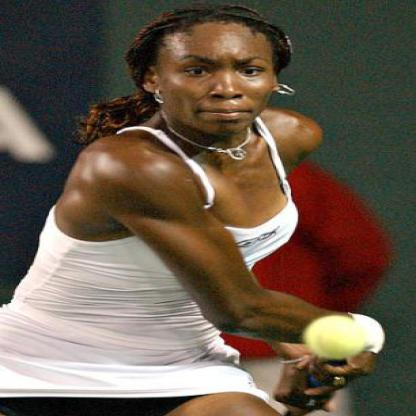face: (159, 11, 277, 137)
